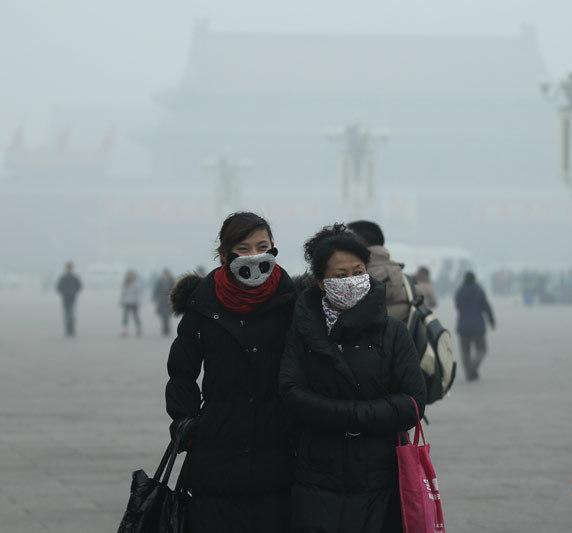person: (270, 221, 429, 533), (161, 206, 311, 531), (320, 219, 418, 477), (451, 270, 495, 383), (54, 256, 83, 340), (117, 266, 144, 338), (151, 265, 177, 336)
